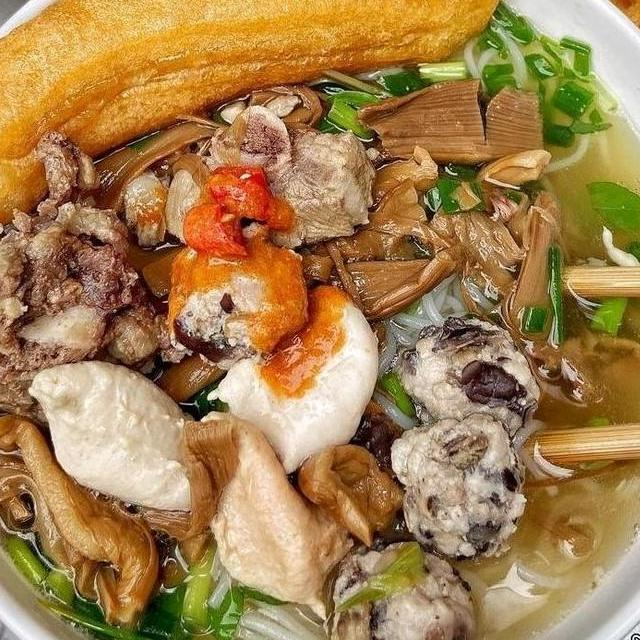bun: (454, 9, 614, 179), (183, 536, 386, 640)
bun moc: (0, 0, 640, 640)
thit heo: (157, 97, 386, 255)
vien moc: (372, 407, 550, 573), (390, 311, 546, 449), (310, 536, 487, 640)
